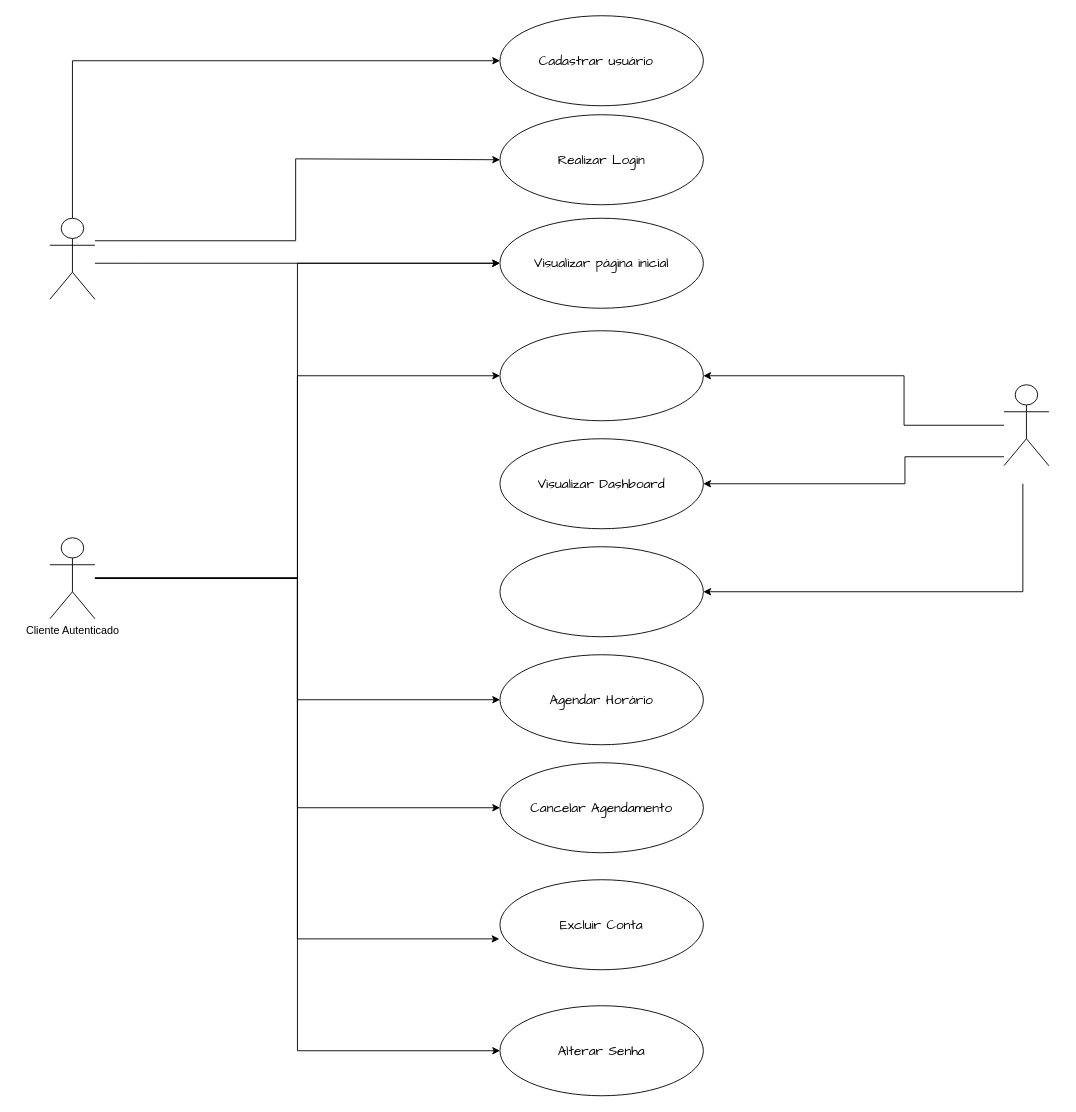
The diagram is 1076 pixels wide and 1112 high, and some of its shapes have lost their labels. Here are the shapes that lost their labels. From the top down, the box of each, then its label:
(49, 217, 95, 299): Cliente não Autenticado
(499, 330, 703, 421): Realizar Logout
(1003, 384, 1049, 466): Administrador
(499, 546, 703, 637): Realizar Login Administrativo
